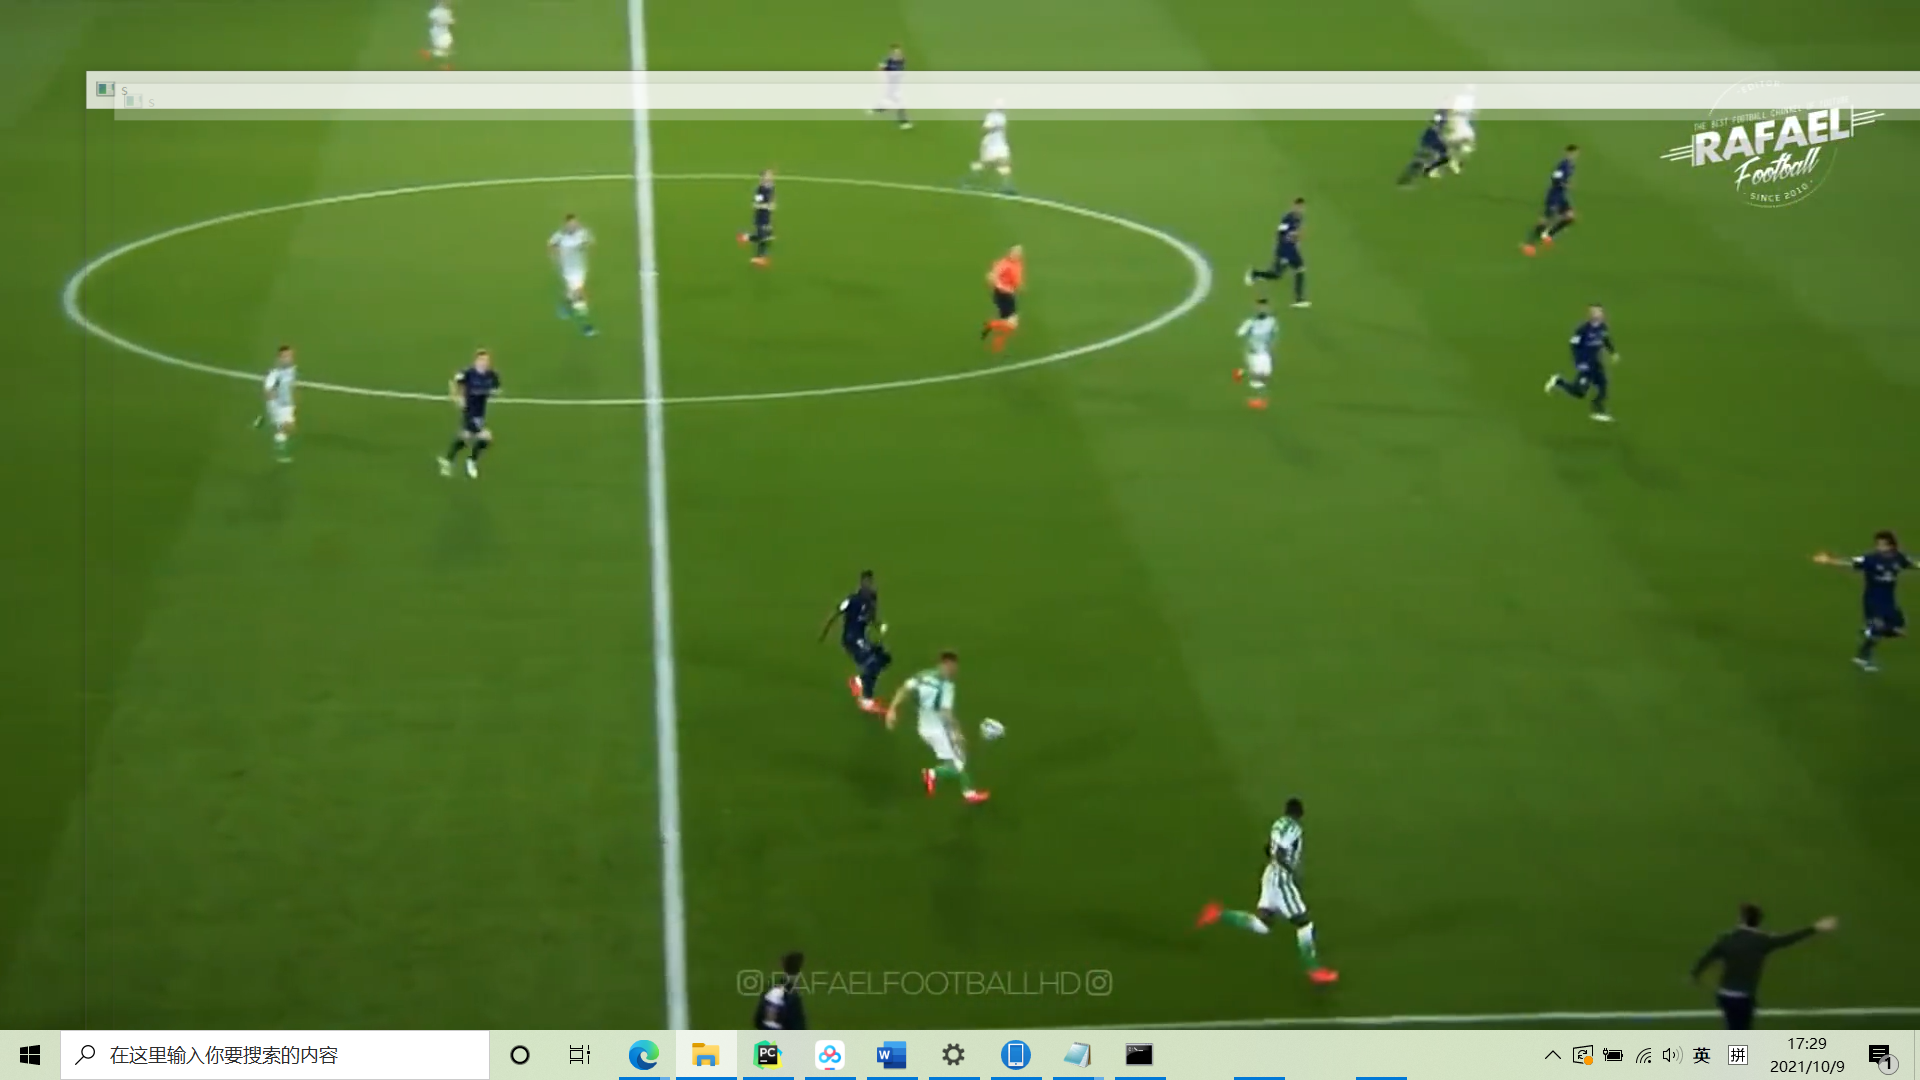ft: (977, 716, 1009, 744)
